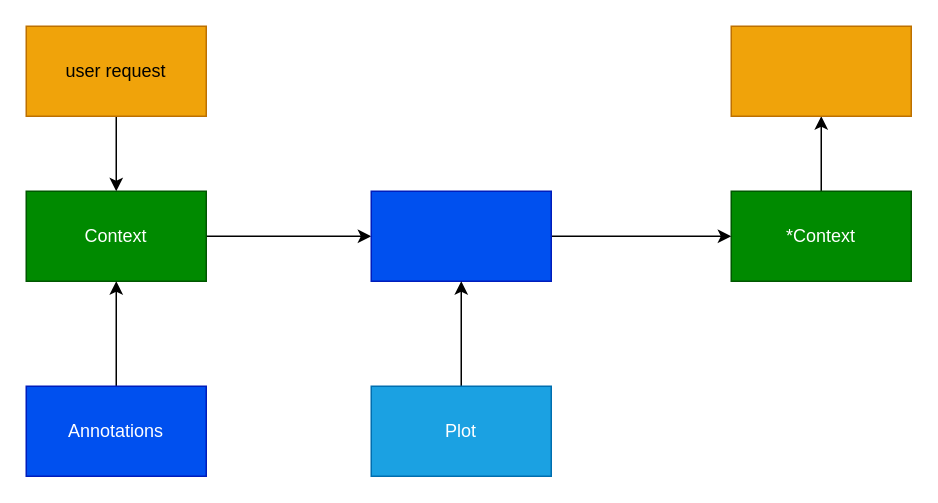
This 938x503 diagram has some shape labels left out. Each missing label, with the box of its shape:
Actor: (370, 190, 551, 281)
actor response: (730, 25, 911, 116)
